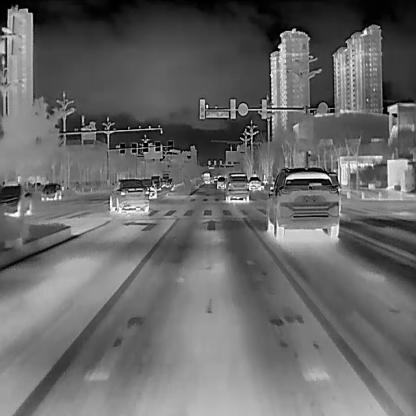car: (266, 167, 339, 236), (109, 178, 148, 211), (0, 184, 31, 216), (224, 172, 248, 201), (40, 181, 62, 200), (140, 176, 156, 199), (148, 172, 161, 191), (248, 177, 260, 190), (216, 176, 225, 189), (201, 172, 210, 184)
